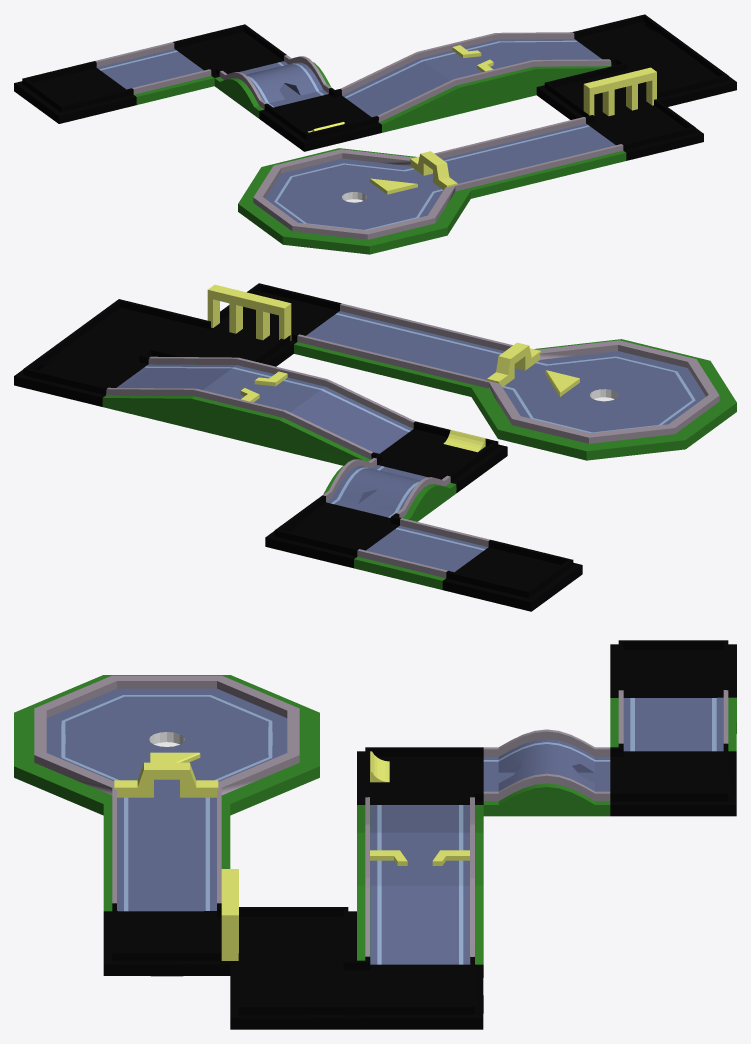
File: Pista4Normal.fbx
The picture shows the model from 3 angles, top to bottom: view 1: azimuth 30°, elevation 25°; view 2: azimuth 150°, elevation 25°; view 3: azimuth 270°, elevation 25°; orthographic projection. The views are drawn at different scales.
Visible parts, largest first — view 1: Cylinder007, Cylinder007.001, Box027, Box020, Object001; view 2: Cylinder007, Cylinder007.001, Box027, Box020, Cube; view 3: Cylinder007, Cylinder007.001, Box020, Box027.
Boxes of the visible parts, <box> form: Cylinder007: <box>14,22,736,254</box>; Cylinder007.001: <box>22,14,728,239</box>; Box027: <box>583,67,656,116</box>; Box020: <box>410,151,457,190</box>; Object001: <box>369,178,417,194</box>; Cylinder007: <box>14,291,736,611</box>; Cylinder007.001: <box>23,283,719,598</box>; Box027: <box>207,284,291,340</box>; Box020: <box>487,342,541,386</box>; Cube: <box>443,430,485,452</box>; Cylinder007: <box>14,644,736,1029</box>; Cylinder007.001: <box>34,640,728,1014</box>; Box020: <box>114,762,218,797</box>; Box027: <box>221,869,238,960</box>.
Size of the model in its own units: 353 by 25.25 by 288.
